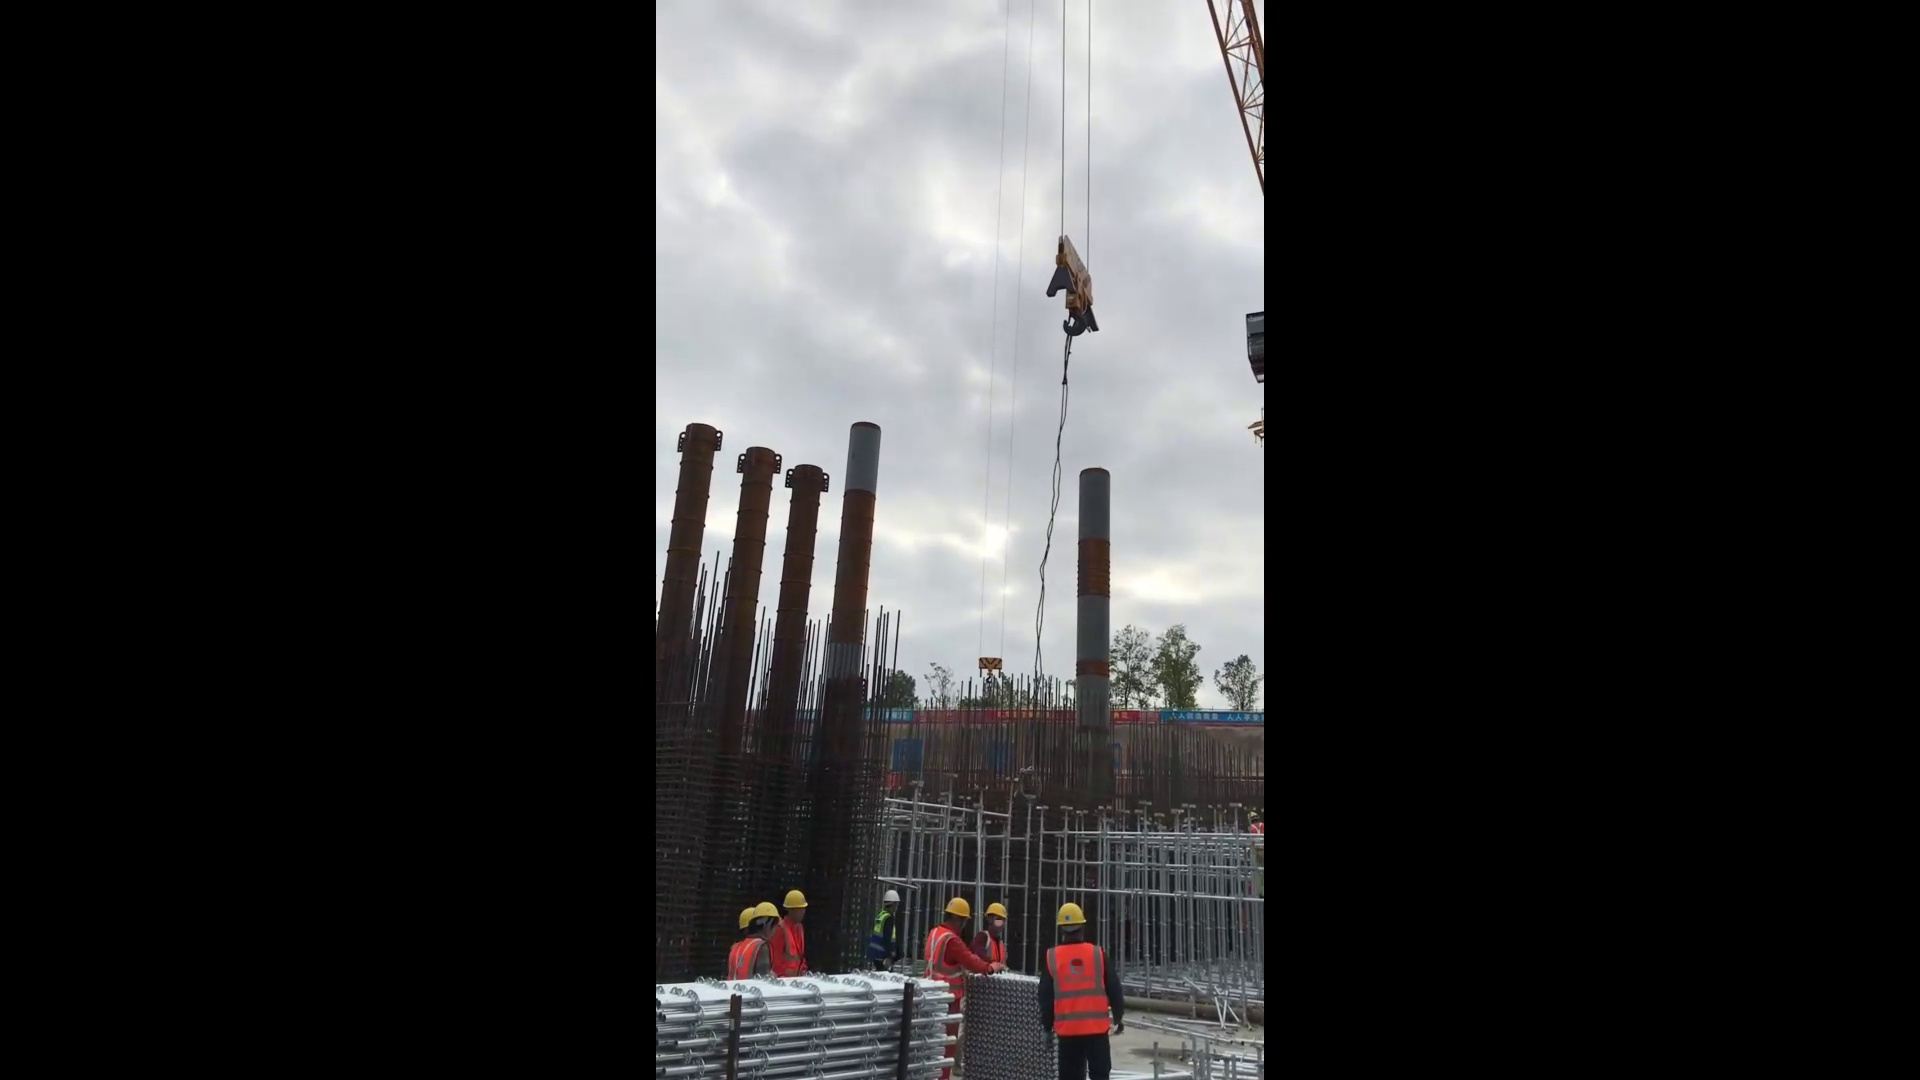helmet: (738, 899, 784, 934), (1052, 900, 1088, 931), (939, 893, 972, 924), (784, 888, 813, 912), (982, 899, 1011, 922), (881, 888, 906, 907)
person: (1037, 898, 1135, 1080), (923, 895, 979, 1080), (725, 898, 785, 987), (769, 881, 815, 987), (864, 885, 908, 979), (974, 895, 1019, 978)
vest: (1049, 936, 1115, 1041), (923, 922, 965, 999), (868, 907, 904, 965), (777, 919, 809, 976), (731, 936, 765, 979), (973, 928, 1006, 969)
